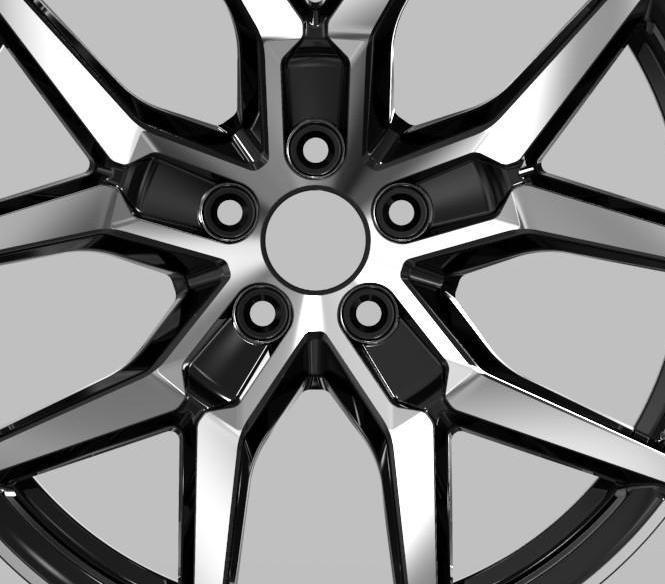hole: (287, 119, 346, 181), (204, 189, 256, 238), (237, 290, 284, 336), (346, 290, 390, 334), (381, 190, 423, 236)
